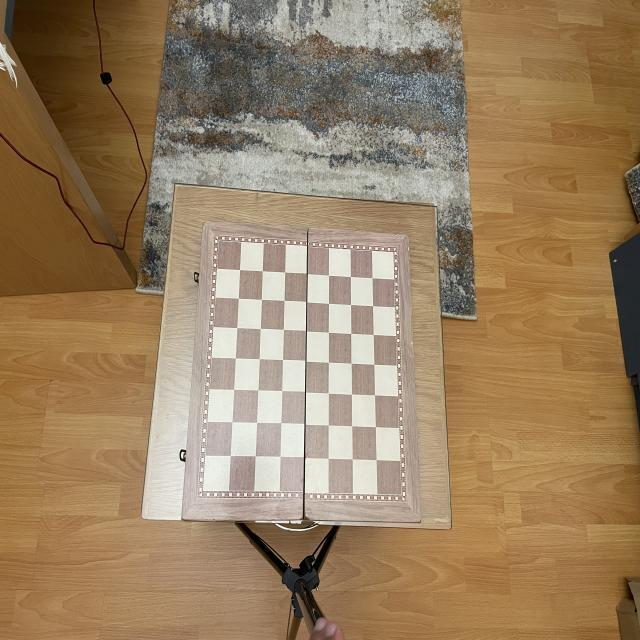corners: (394, 229, 419, 251), (408, 508, 432, 530), (172, 509, 196, 530), (198, 218, 218, 234)
